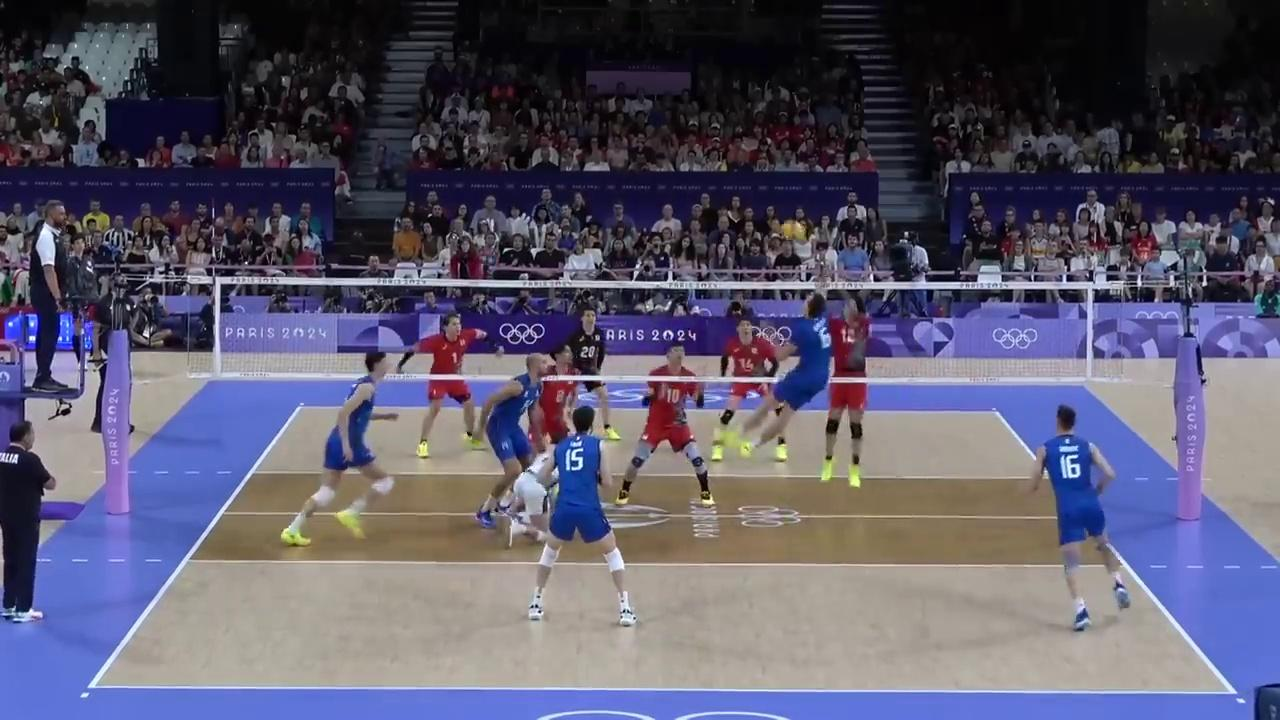ball: (782, 219, 806, 241)
